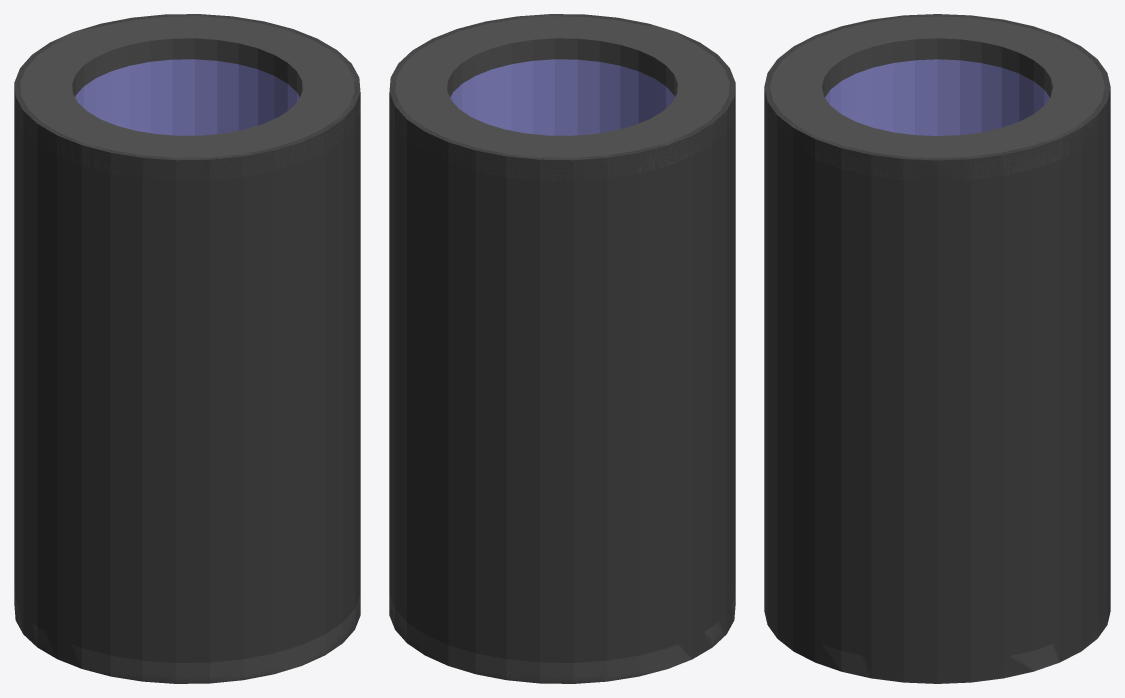
Rendered from test_joint_sleeves3.glb.
3 renders of one model, left to right at view 1: azimuth 30°, elevation 25°; view 2: azimuth 150°, elevation 25°; view 3: azimuth 270°, elevation 25°, orthographic.
Visible parts, largest first — view 1: world; view 2: world; view 3: world.
Boxes of the visible parts, x1,y1,x2,y2 form: world: (14,14,360,683); world: (389,14,735,683); world: (764,14,1110,683).
Size of the model in its own units: 30 by 50 by 30.
